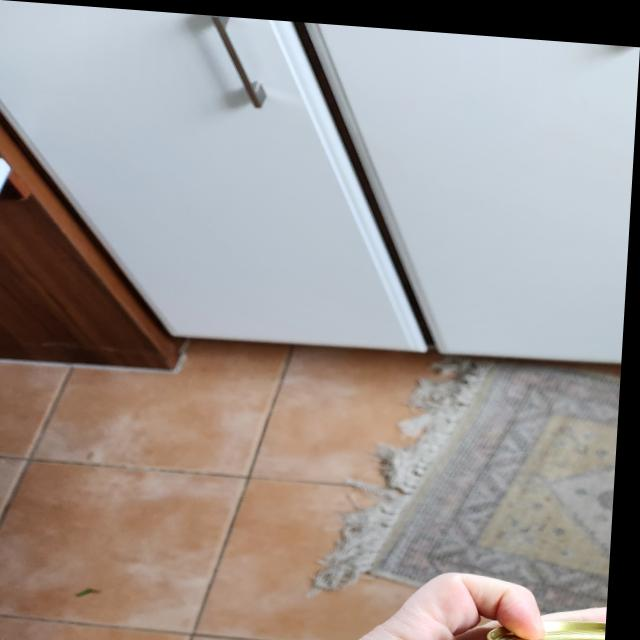salmon: (497, 602, 613, 640)
